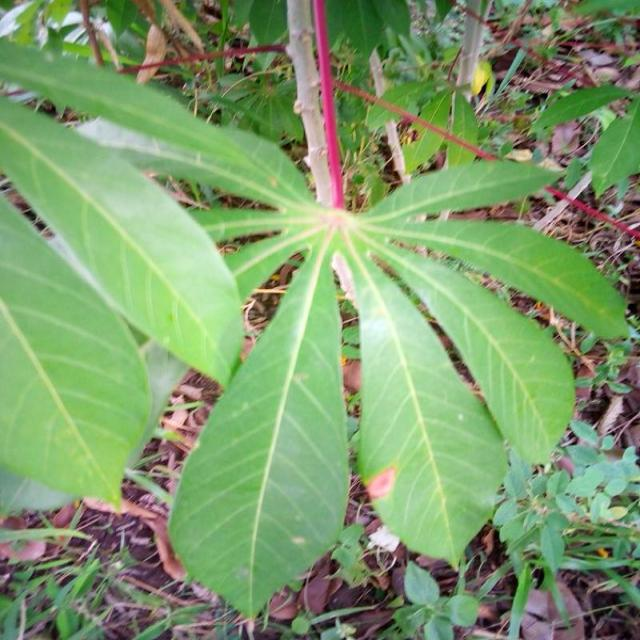cassava leaf: (2, 6, 632, 621), (167, 223, 351, 620), (2, 92, 245, 389), (347, 245, 510, 570), (1, 189, 153, 513)
